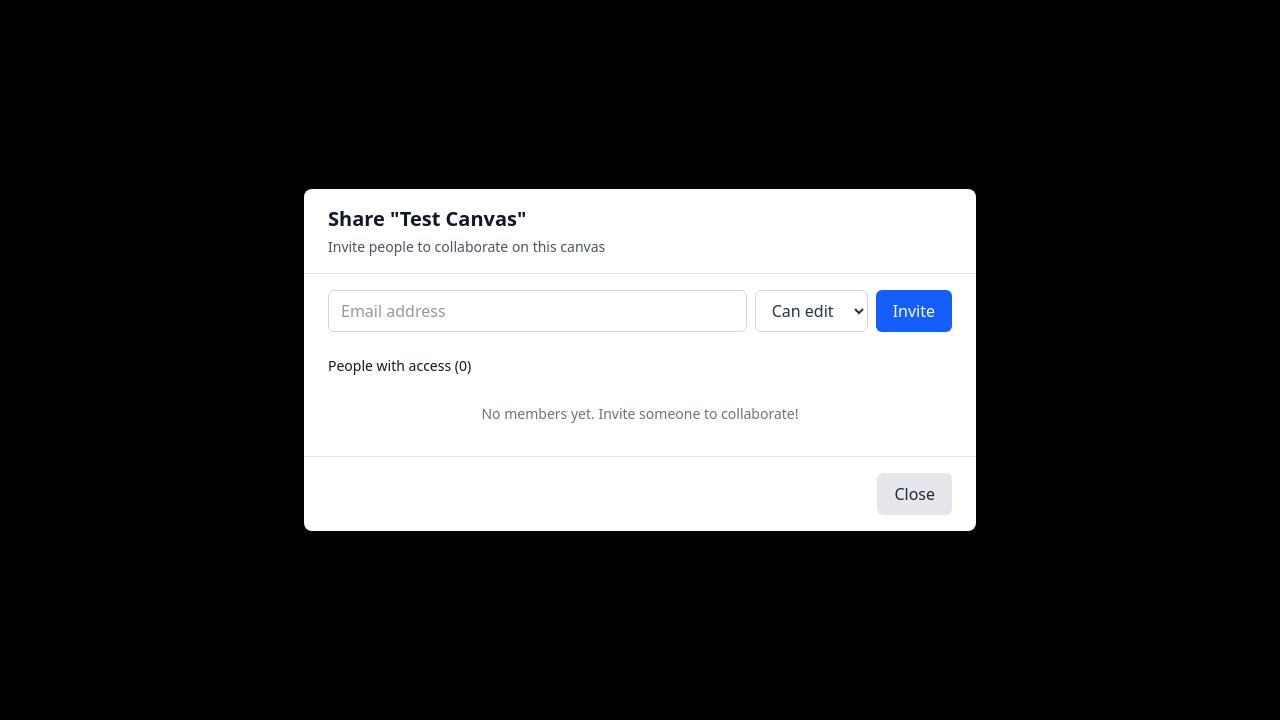
Test: ShareDialog › should allow owner to invite new members
Fill in email
In the field with placeholder "Email address": (537, 311) [328,290,747,332], type "newuser@example.com"
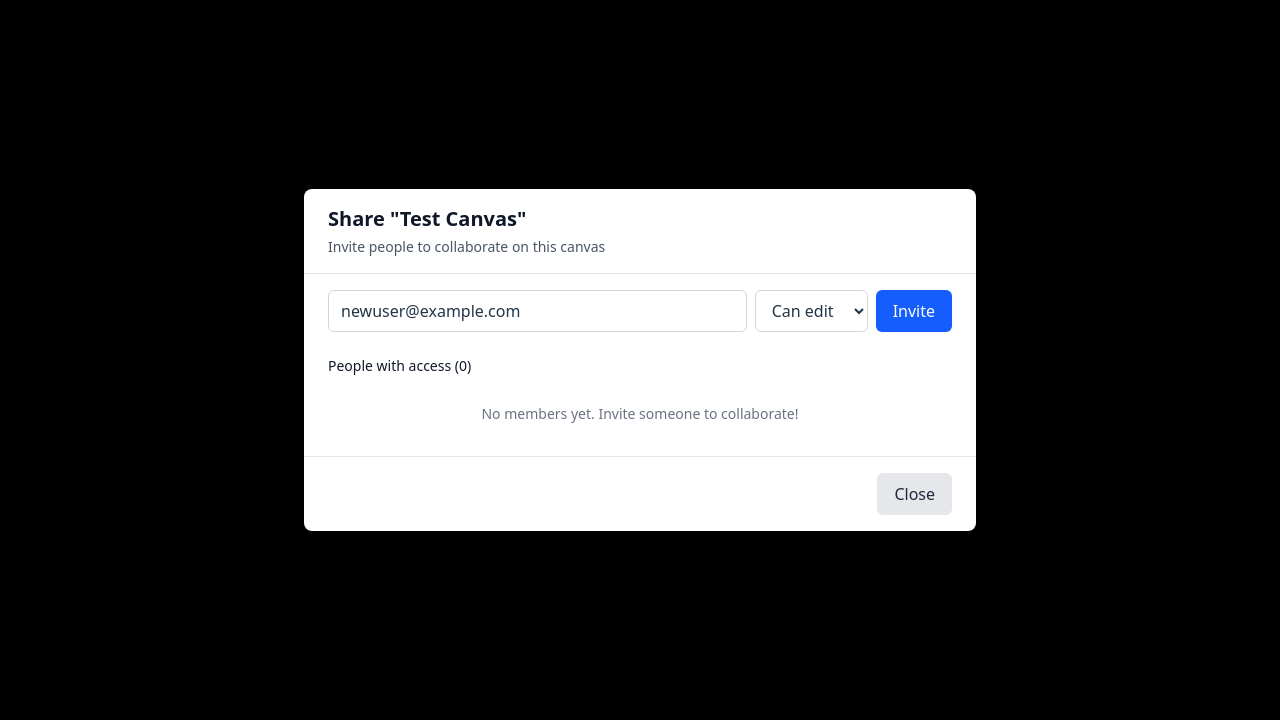
Submit form
Click the button "Invite": (914, 311) [876,290,952,332]
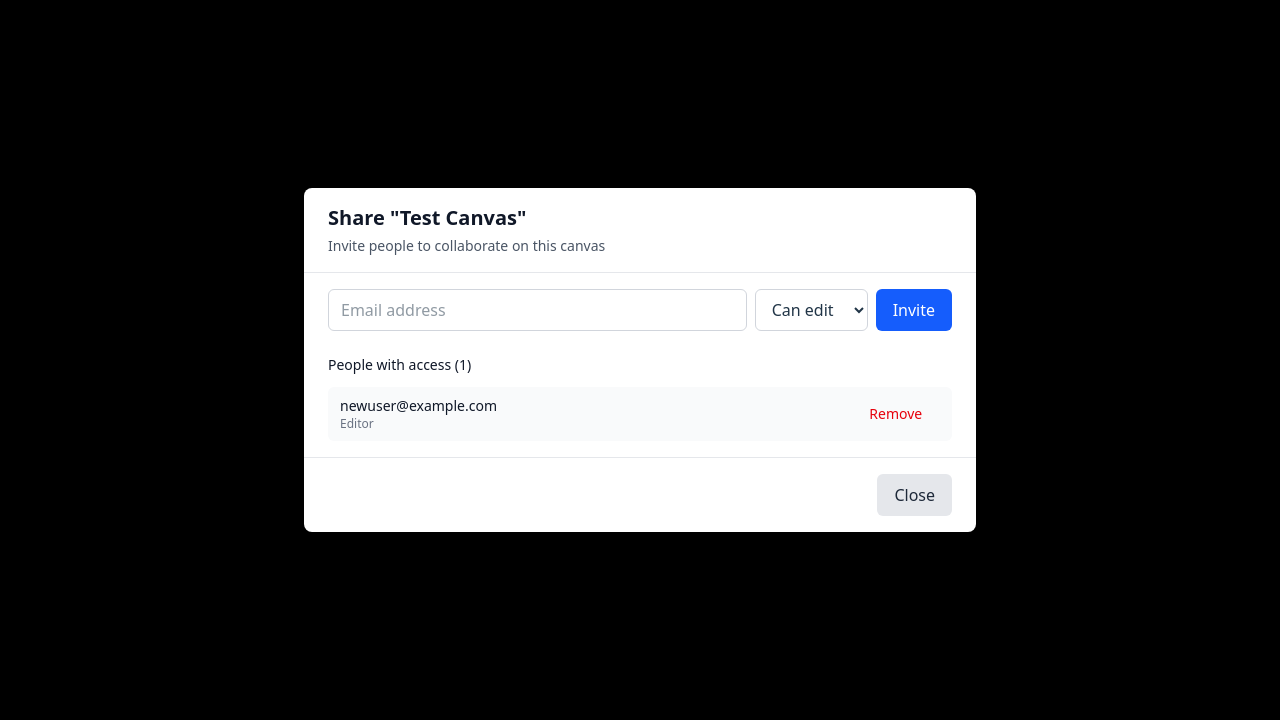
Check: the text "newuser@example.com" is shown, box [340,396,497,415]
